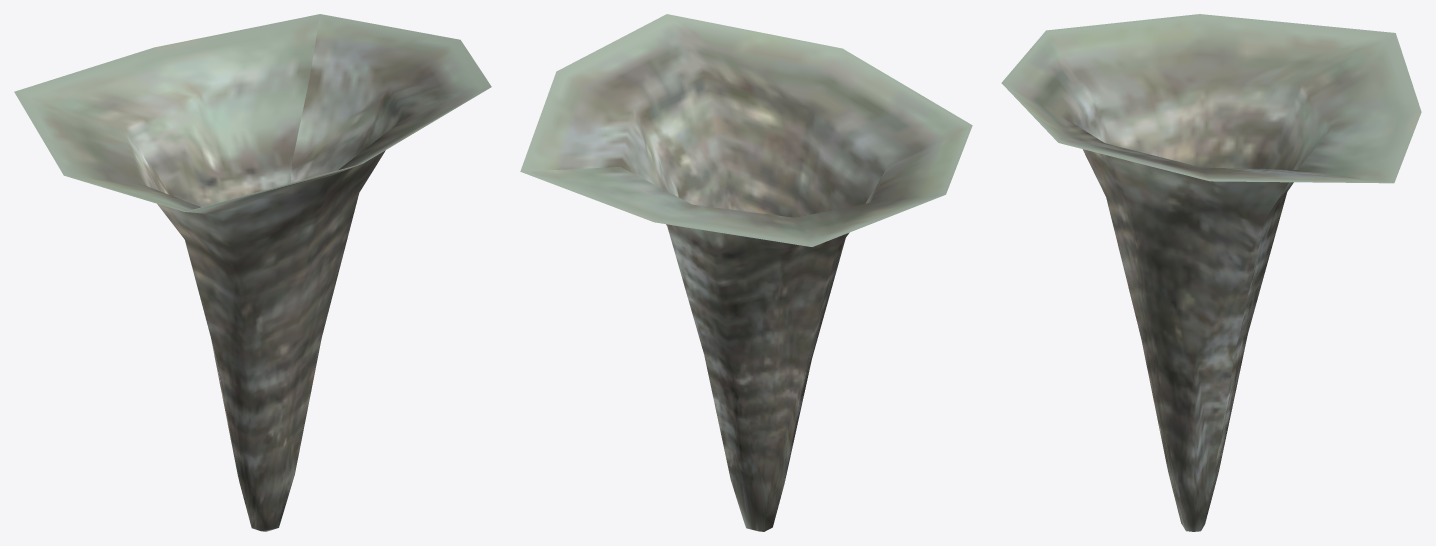
The model's file is TROLLHOLE02_PS-MAINSTALAG89.fbx.
3 renders of one model, left to right at view 1: azimuth 30°, elevation 25°; view 2: azimuth 150°, elevation 25°; view 3: azimuth 270°, elevation 25°, orthographic. The views are drawn at different scales.
Visible parts, largest first — view 1: TROLLHOLE02_PS-MAINSTALAG89; view 2: TROLLHOLE02_PS-MAINSTALAG89; view 3: TROLLHOLE02_PS-MAINSTALAG89.
Boxes of the visible parts, box(x1,y1,x2,y2) form: TROLLHOLE02_PS-MAINSTALAG89: box(14, 14, 491, 531); TROLLHOLE02_PS-MAINSTALAG89: box(520, 14, 972, 531); TROLLHOLE02_PS-MAINSTALAG89: box(1001, 14, 1421, 531).
Bounding box in the file's own units: 25293 × 27273 × 22149.
1 material, 1 textured.
